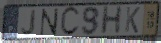9: (81, 5, 102, 36)
C: (59, 6, 81, 38)
H: (100, 5, 124, 36)
J: (21, 9, 38, 36)
K: (123, 6, 141, 34)
N: (39, 8, 60, 37)
